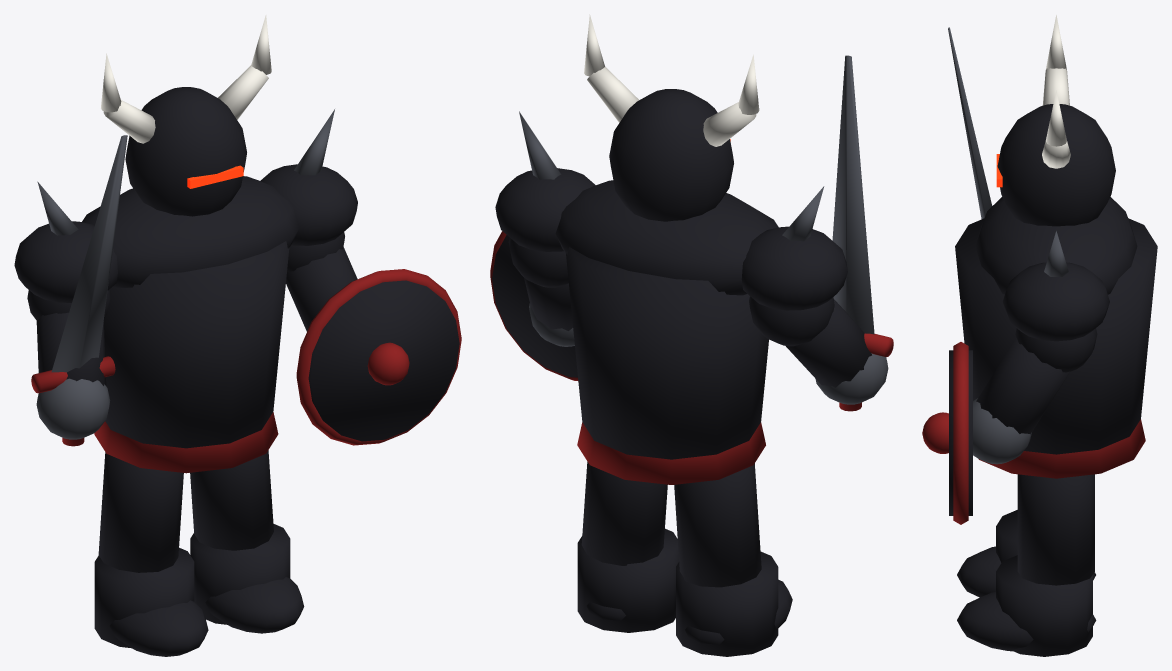
The model's file is chaos_warrior.glb.
3 views of the same model, side by side, from view 1: azimuth 30°, elevation 25°; view 2: azimuth 150°, elevation 25°; view 3: azimuth 270°, elevation 25° (orthographic). The views are drawn at different scales.
Visible parts, largest first — view 1: chaos_warrior; view 2: chaos_warrior; view 3: chaos_warrior.
Part boxes in pixels (x1,y1,x2,y2): chaos_warrior: (14, 15, 461, 656); chaos_warrior: (490, 14, 893, 656); chaos_warrior: (922, 15, 1157, 656).
Size of the model in its own units: 0.765 by 1.06 by 0.395.
